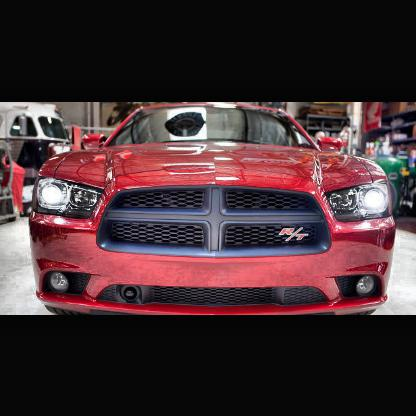Dodge Charger Sedan 2012: (30, 103, 399, 315)
